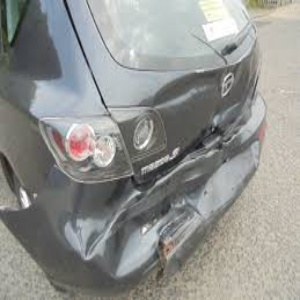bumper: (10, 182, 269, 291)
